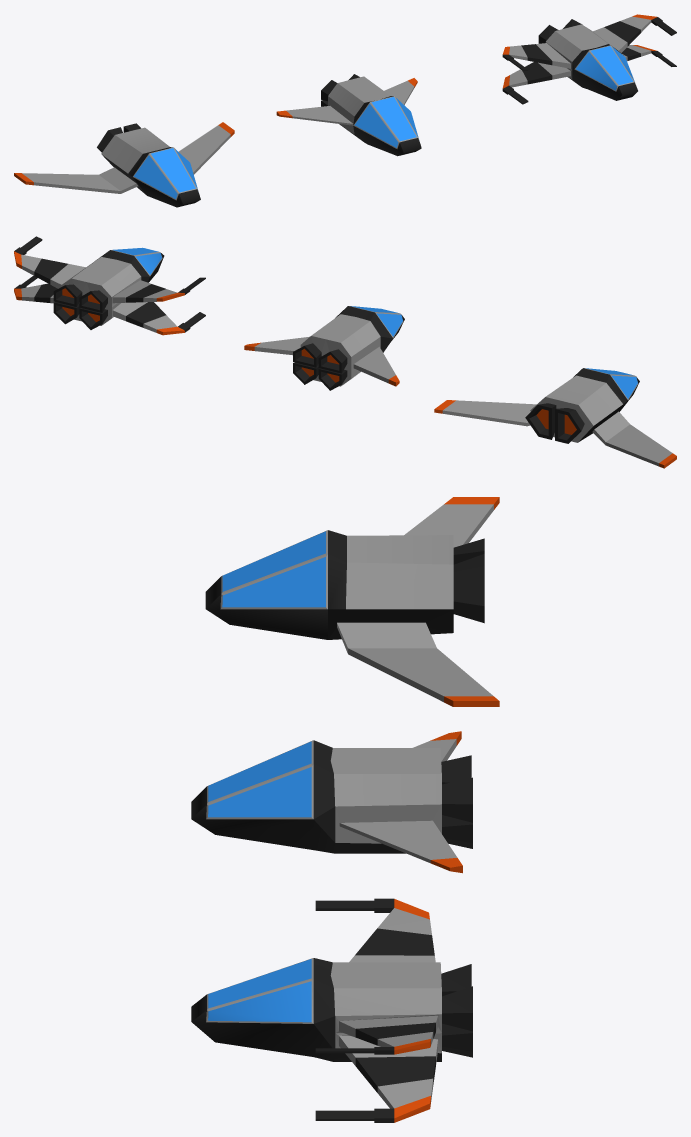
File: Spaceships.fbx
3 renders of one model, top to bottom at view 1: azimuth 30°, elevation 25°; view 2: azimuth 150°, elevation 25°; view 3: azimuth 270°, elevation 25°, orthographic. The views are drawn at different scales.
Parts seen in each view (by area): view 1: Box003, Box001, Box002; view 2: Box003, Box001, Box002; view 3: Box003, Box001, Box002.
Part boxes in pixels (x1,y1,x2,y2): Box003: [502, 14, 676, 104]; Box001: [14, 122, 234, 207]; Box002: [276, 74, 421, 156]; Box003: [14, 236, 205, 335]; Box001: [434, 368, 676, 468]; Box002: [244, 306, 404, 390]; Box003: [191, 898, 472, 1122]; Box001: [205, 497, 499, 706]; Box002: [191, 731, 472, 873].
Bounding box in the file's own units: 113 × 7.72 × 24.52.
